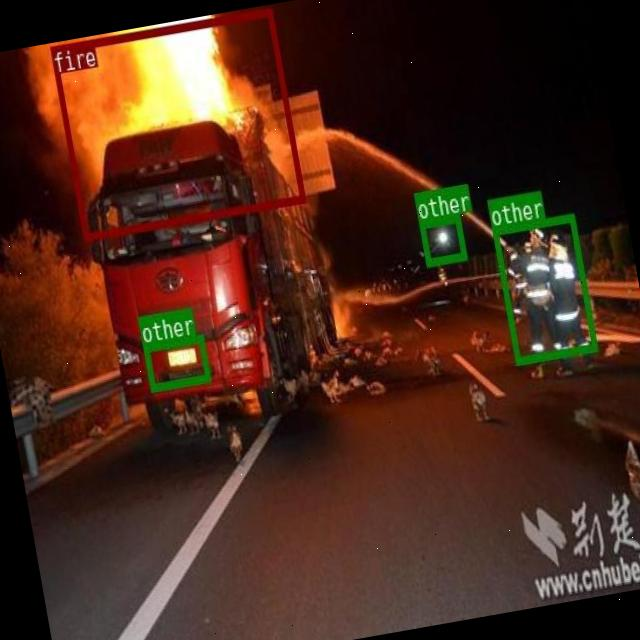fire: (49, 6, 304, 239)
